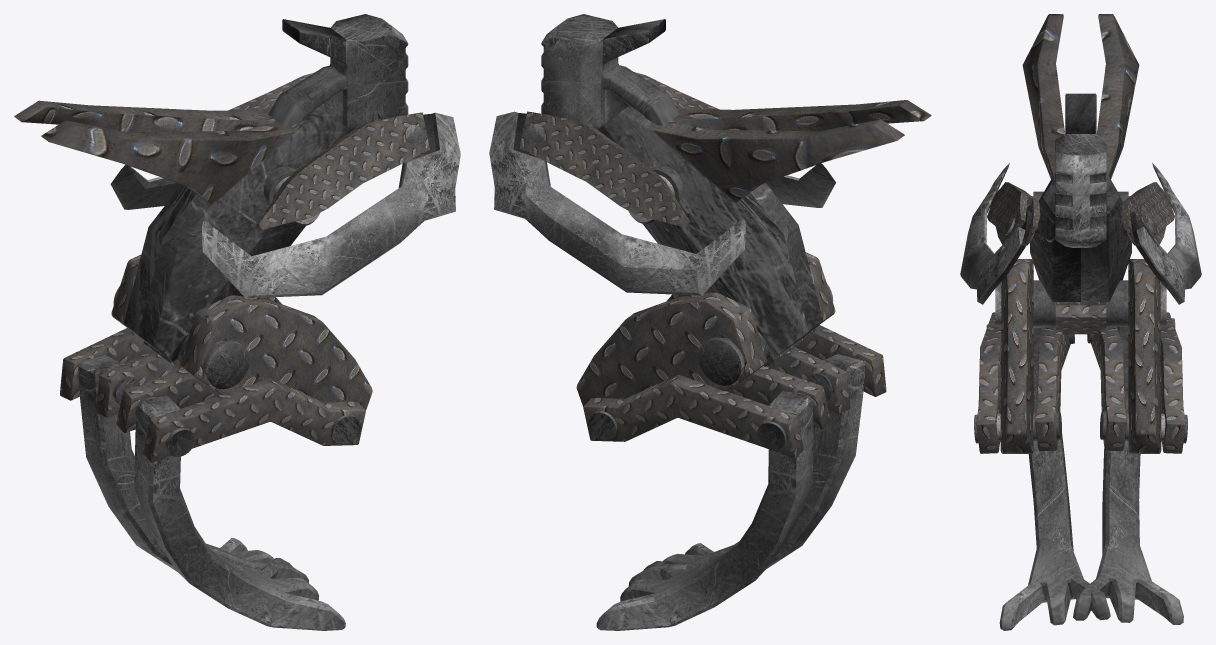
File: BOT.fbx
3 views of the same model, side by side, from view 1: azimuth 30°, elevation 25°; view 2: azimuth 150°, elevation 25°; view 3: azimuth 270°, elevation 25° (orthographic). The views are drawn at different scales.
Visible parts, largest first — view 1: Cube, Cube.003, Cube.005, Cube.002, Cube.001, Cube.007, Cube.004, Cylinder, Cylinder.002, Cylinder.003, Cylinder.001; view 2: Cube, Cube.003, Cube.005, Cube.002, Cube.001, Cube.007, Cube.004, Cylinder, Cylinder.002, Cylinder.003, Cylinder.001; view 3: Cube.003, Cube, Cube.001, Cube.002, Cube.005, Cube.007, Cube.004, Cylinder, Cube.006, Cylinder.001.
Part boxes in pixels (left/top/right/bottom): Cube: left=14, top=100, right=350, bottom=361; Cube.003: left=78, top=355, right=345, bottom=630; Cube.005: left=110, top=112, right=460, bottom=298; Cube.002: left=60, top=328, right=365, bottom=462; Cube.001: left=111, top=255, right=372, bottom=410; Cube.007: left=268, top=14, right=408, bottom=130; Cube.004: left=228, top=72, right=429, bottom=230; Cylinder: left=113, top=286, right=249, bottom=389; Cylinder.002: left=77, top=359, right=195, bottom=456; Cylinder.003: left=263, top=166, right=319, bottom=225; Cylinder.001: left=331, top=415, right=360, bottom=443; Cube: left=598, top=100, right=931, bottom=358; Cube.003: left=596, top=354, right=865, bottom=630; Cube.005: left=489, top=111, right=835, bottom=295; Cube.002: left=583, top=325, right=886, bottom=457; Cube.001: left=576, top=252, right=835, bottom=406; Cube.007: left=541, top=14, right=679, bottom=129; Cube.004: left=519, top=72, right=719, bottom=228; Cylinder: left=698, top=284, right=833, bottom=385; Cylinder.002: left=757, top=373, right=864, bottom=450; Cylinder.003: left=628, top=166, right=682, bottom=223; Cylinder.001: left=588, top=411, right=617, bottom=439; Cube.003: left=999, top=326, right=1183, bottom=630; Cube: left=1022, top=14, right=1139, bottom=302; Cube.001: left=1000, top=259, right=1161, bottom=453; Cube.002: left=976, top=312, right=1185, bottom=453; Cube.005: left=960, top=163, right=1201, bottom=304; Cube.007: left=1055, top=93, right=1106, bottom=247; Cube.004: left=987, top=182, right=1174, bottom=246; Cylinder: left=995, top=280, right=1166, bottom=326; Cube.006: left=1055, top=302, right=1106, bottom=334; Cylinder.001: left=974, top=411, right=1187, bottom=443.
Bounding box in the file's own units: 809 × 1146 × 470.
2 materials, 2 textured.
